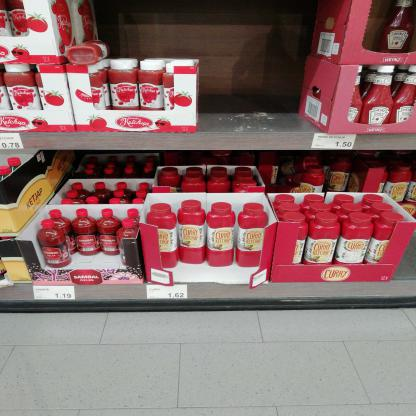prtg: (312, 134, 358, 150), (148, 286, 188, 300), (34, 287, 76, 300)
